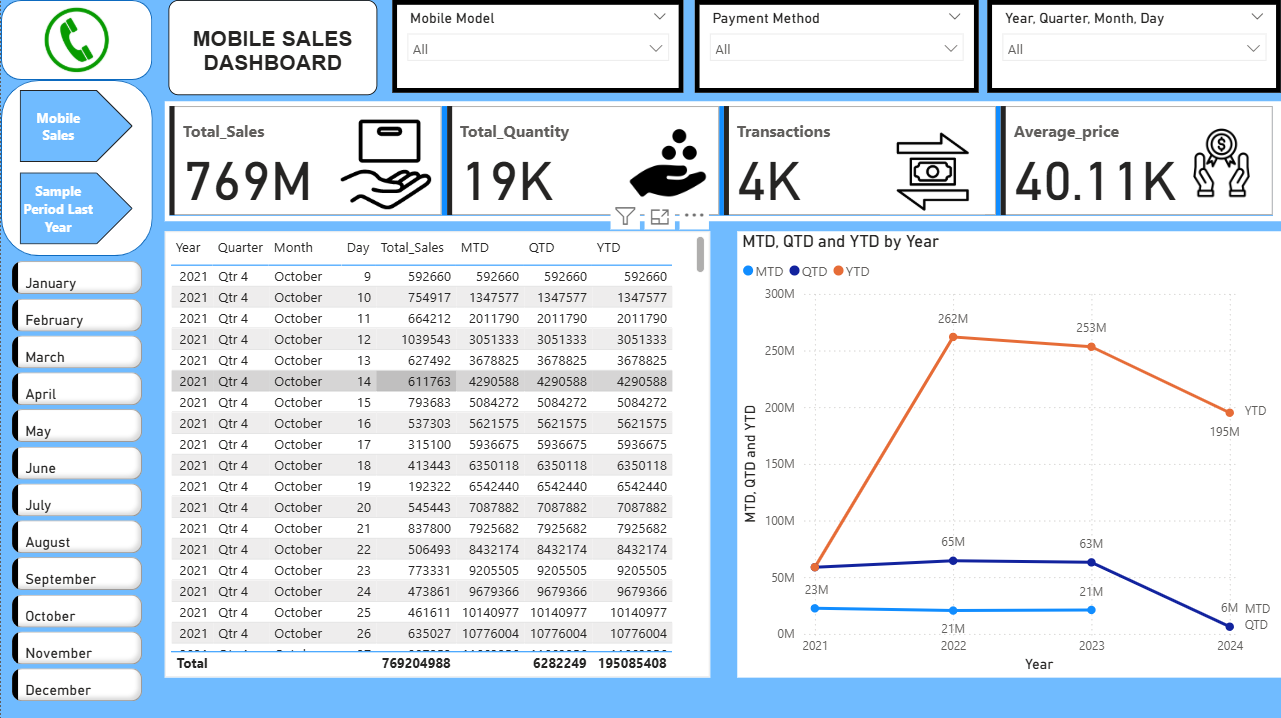

The dashboard page shown, as its layout file describes it:
{"tool":"powerbi","page":{"name":"MTD","canvas":[1280,720],"ordinal":1},"visuals":[{"type":"shape","box":[0,0,151.2,80],"z":0},{"type":"image","box":[0,0,151.2,80],"z":1000},{"type":"shape","box":[0,79.5,151.6,176.1],"z":2000},{"type":"cardVisual","fields":{"Data":["Mobile Sales Data.Total_Sales","Mobile Sales Data.Total_Quantity","Mobile Sales Data.Transactions","Mobile Sales Data.Average_price"]},"box":[163.9,101.5,1116.4,119.8],"z":3000},{"type":"slicer","fields":{"Values":["Mobile Sales Data.Mobile Model"]},"box":[391.2,0,291.2,92.5],"z":4000},{"type":"slicer","fields":{"Values":["Mobile Sales Data.Payment Method"]},"box":[693.8,0,283.8,92.5],"z":5000},{"type":"textbox","box":[166.9,0,209,95],"z":6000},{"type":"slicer","fields":{"Values":["Custom_Calender.Date.Variation.Date Hierarchy.Year","Custom_Calender.Date.Variation.Date Hierarchy.Quarter","Custom_Calender.Date.Variation.Date Hierarchy.Month","Custom_Calender.Date.Variation.Date Hierarchy.Day"]},"box":[986.2,0,293.8,92.5],"z":7000},{"type":"tableEx","fields":{"Values":["Custom_Calender.Date.Variation.Date Hierarchy.Year","Custom_Calender.Date.Variation.Date Hierarchy.Quarter","Custom_Calender.Date.Variation.Date Hierarchy.Month","Custom_Calender.Date.Variation.Date Hierarchy.Day","Mobile Sales Data.Total_Sales","Mobile Sales Data.MTD","Mobile Sales Data.QTD","Mobile Sales Data.YTD"]},"box":[163.9,231.1,545.4,446.3],"z":8000},{"type":"lineChart","fields":{"Category":["Custom_Calender.Date.Variation.Date Hierarchy.Year","Custom_Calender.Date.Variation.Date Hierarchy.Quarter","Custom_Calender.Date.Variation.Date Hierarchy.Month","Custom_Calender.Date.Variation.Date Hierarchy.Day"],"Y":["Mobile Sales Data.MTD","Mobile Sales Data.QTD","Mobile Sales Data.YTD"]},"box":[736.1,231.1,544.2,446.3],"z":9000},{"type":"advancedSlicerVisual","fields":{"Values":["Custom_Calender.Date.Variation.Date Hierarchy.Month"]},"box":[6.2,256.2,140,450],"z":10000},{"type":"pageNavigator","box":[18.3,90.5,113.7,154.1],"z":11000}]}

Visuals, with their boxes in screenshot pixels (x1, y1, x2, y2), scaled from the page's 1280x720 canvas onto the 1281x718 screenshot:
shape: (x1=0, y1=0, x2=151, y2=80)
image: (x1=0, y1=0, x2=151, y2=80)
shape: (x1=0, y1=79, x2=152, y2=255)
cardVisual - Mobile Sales Data.Total_Sales x Mobile Sales Data.Total_Quantity: (x1=164, y1=101, x2=1280, y2=221)
slicer - Mobile Sales Data.Mobile Model: (x1=392, y1=0, x2=683, y2=92)
slicer - Mobile Sales Data.Payment Method: (x1=694, y1=0, x2=978, y2=92)
textbox: (x1=167, y1=0, x2=376, y2=95)
slicer - Custom_Calender.Date.Variation.Date Hierarchy.Year x Custom_Calender.Date.Variation.Date Hierarchy.Quarter: (x1=987, y1=0, x2=1280, y2=92)
tableEx - Custom_Calender.Date.Variation.Date Hierarchy.Year x Custom_Calender.Date.Variation.Date Hierarchy.Quarter: (x1=164, y1=230, x2=710, y2=676)
lineChart - Custom_Calender.Date.Variation.Date Hierarchy.Year x Custom_Calender.Date.Variation.Date Hierarchy.Quarter: (x1=737, y1=230, x2=1280, y2=676)
advancedSlicerVisual - Custom_Calender.Date.Variation.Date Hierarchy.Month: (x1=6, y1=255, x2=146, y2=704)
pageNavigator: (x1=18, y1=90, x2=132, y2=244)
